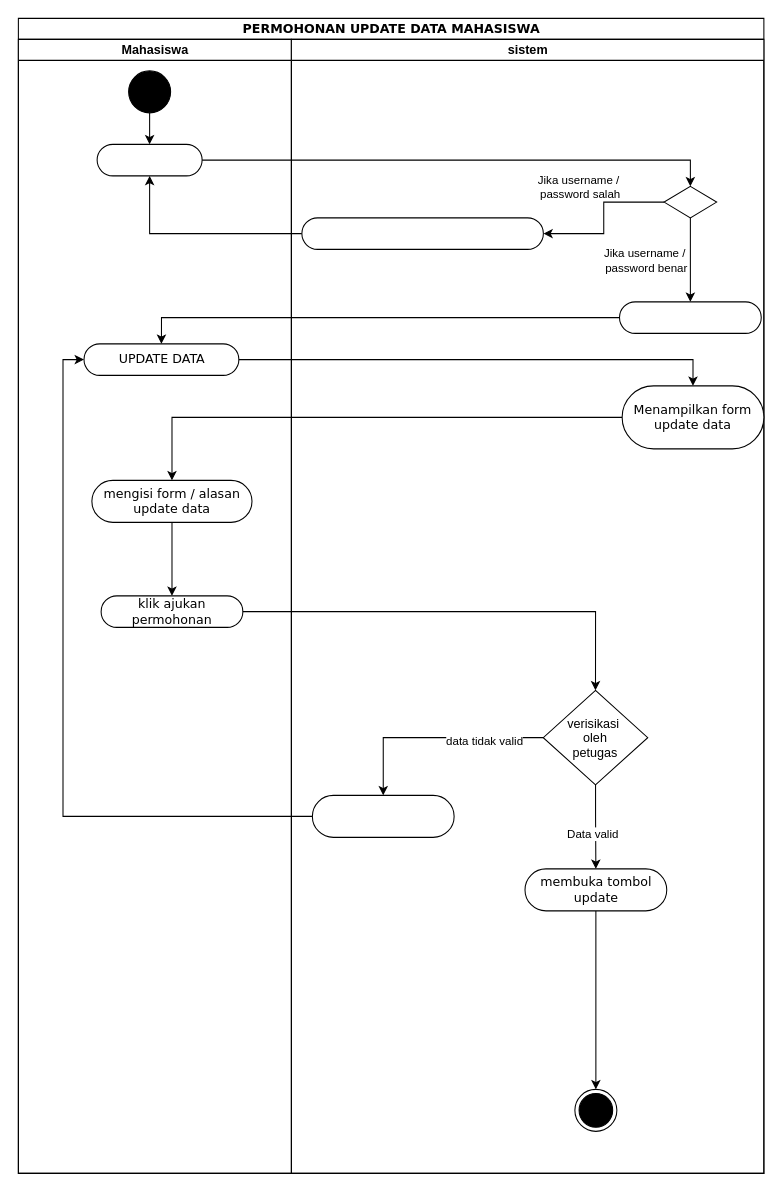
The diagram is 782 pixels wide and 1192 high, and some of its shapes have lost their labels. Each missing label, with the centre of its shape:
"halaman utama" belongs at (x=689, y=317).
"informasi kesalahan" belongs at (x=382, y=815).
"Login" belongs at (x=149, y=159).
"menampilkan pesan eror" belongs at (x=422, y=233).
